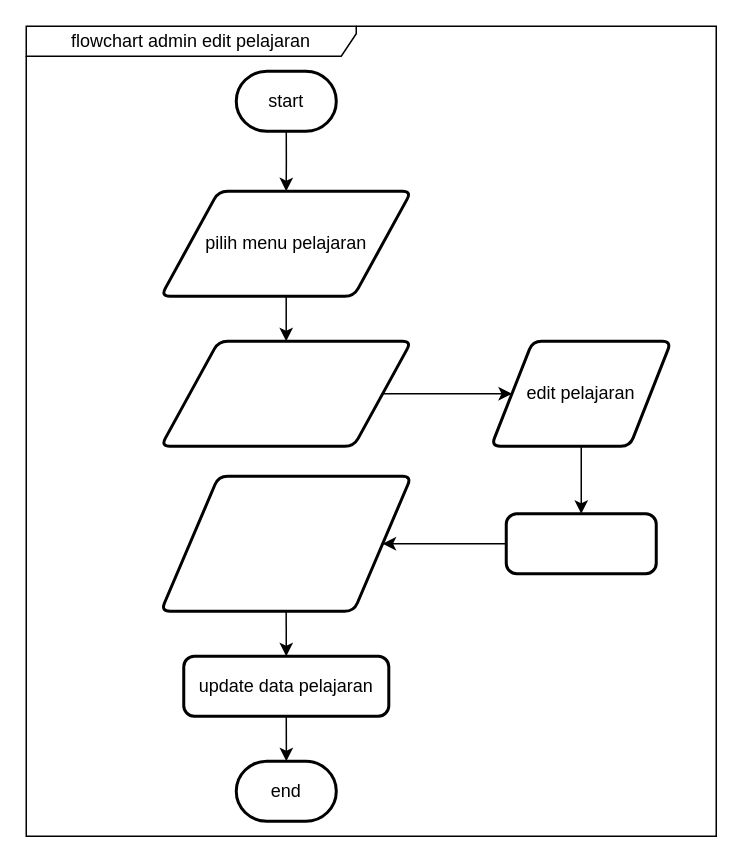
This 743x863 diagram has some shape labels left out. The box of each missing label's shape, as (x1, y1, x2, y2) in pixels:
get id_pelajaran: (504, 512, 657, 574)
masukan : judul, pilih kelas, guru pengajar: (159, 474, 412, 612)
pilih kelas: (159, 339, 412, 447)
